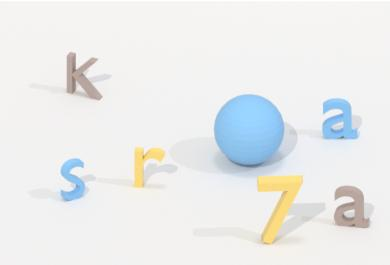0-Tron: (212, 90, 286, 169)
7: (253, 172, 306, 248)
K: (63, 50, 105, 104)
S: (57, 154, 90, 205)
a: (319, 95, 360, 144), (331, 184, 372, 231)
r: (131, 143, 167, 192)
